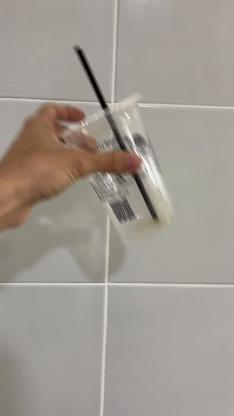Plastic Cup: (53, 90, 174, 238)
